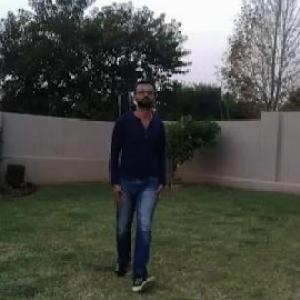follow: (105, 69, 169, 283)
